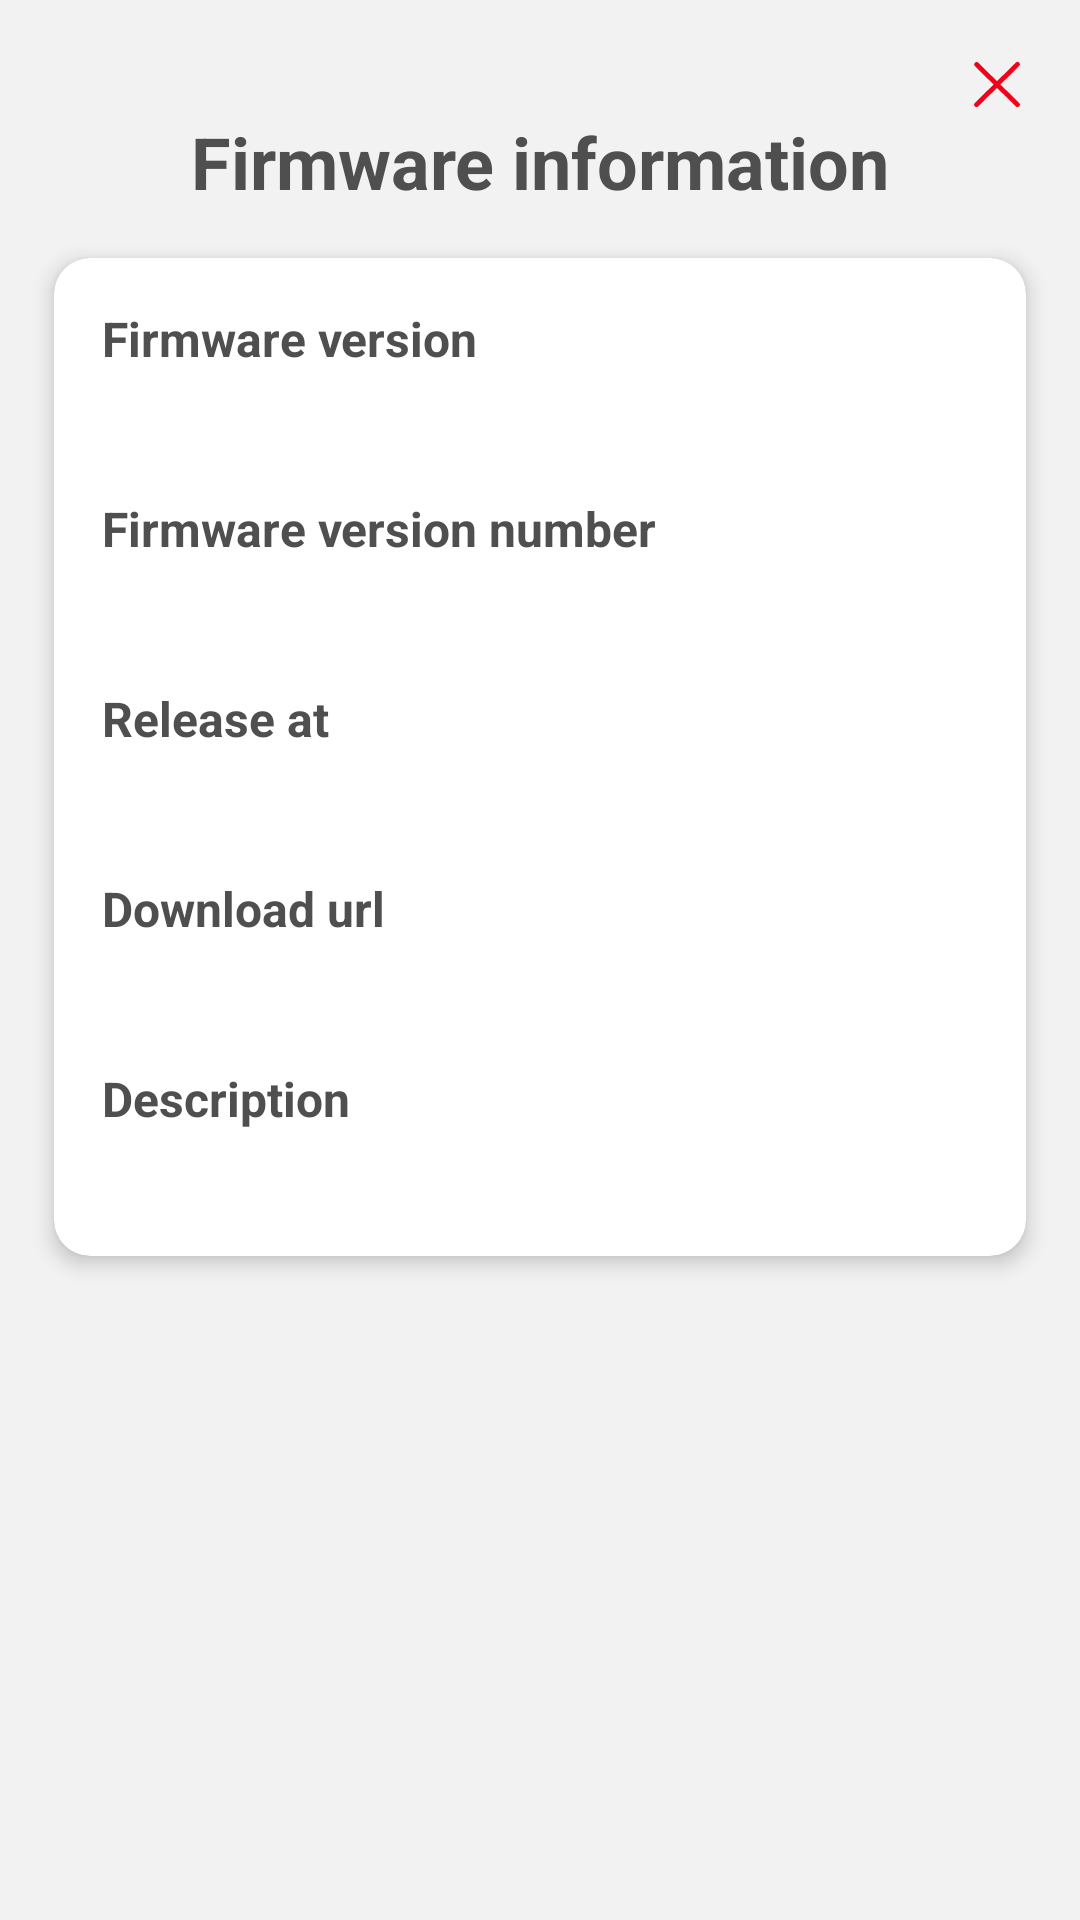

Named icons in this screenshot (1080 × 1920) and their centers, (x,y):
close: (997,84)
